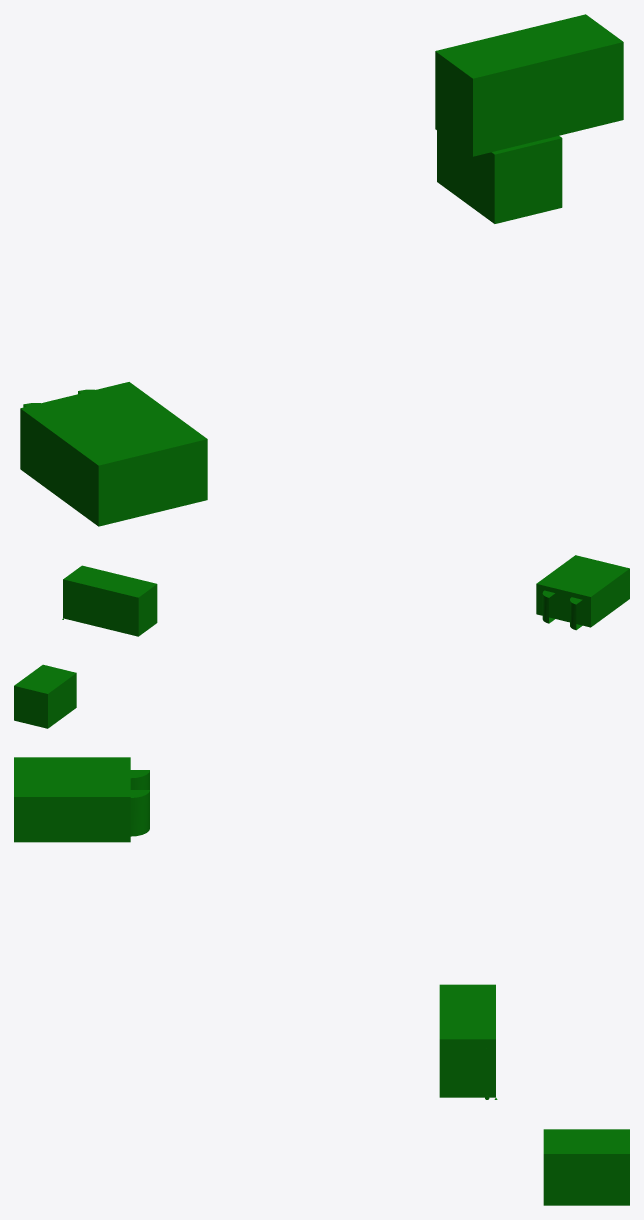
The model's file is Image-1710907724670-2280942044352_TEMP-CONTAINER-PLACEMENT.fbx.
The picture shows the model from 3 angles, top to bottom: view 1: azimuth 30°, elevation 25°; view 2: azimuth 150°, elevation 25°; view 3: azimuth 270°, elevation 25°; orthographic projection. The views are drawn at different scales.
Parts seen in each view (by area): view 1: BOX 1 of SUBEQUIPMENT /SYKESTUE, BOX 1 of SUBEQUIPMENT /LØFTEUTSTYRSKONTEINER, BOX 1 of SUBEQUIPMENT /KJØL_FRYS, BOX 1 of SUBEQUIPMENT /LAGERKONTEINER; view 2: BOX 1 of SUBEQUIPMENT /SYKESTUE, BOX 1 of SUBEQUIPMENT /KJØL_FRYS, BOX 1 of SUBEQUIPMENT /LØFTEUTSTYRSKONTEINER, BOX 1 of SUBEQUIPMENT /LAGERKONTEINER, RTORUS 1 of SUBEQUIPMENT /LAGERKONTEINER, RTORUS 1 of SUBEQUIPMENT /LØFTEUTSTYRSKONTEINER; view 3: BOX 1 of SUBEQUIPMENT /LAGERKONTEINER, BOX 1 of SUBEQUIPMENT /KJØL_FRYS, BOX 1 of SUBEQUIPMENT /SYKESTUE, BOX 1 of SUBEQUIPMENT /LØFTEUTSTYRSKONTEINER, RTORUS 1 of SUBEQUIPMENT /LAGERKONTEINER.
Part boxes in pixels (<box>): BOX 1 of SUBEQUIPMENT /SYKESTUE: <box>435,14,623,156</box>; BOX 1 of SUBEQUIPMENT /LØFTEUTSTYRSKONTEINER: <box>20,395,152,526</box>; BOX 1 of SUBEQUIPMENT /KJØL_FRYS: <box>437,130,562,223</box>; BOX 1 of SUBEQUIPMENT /LAGERKONTEINER: <box>75,382,207,513</box>; BOX 1 of SUBEQUIPMENT /SYKESTUE: <box>63,565,157,636</box>; BOX 1 of SUBEQUIPMENT /KJØL_FRYS: <box>14,664,76,728</box>; BOX 1 of SUBEQUIPMENT /LØFTEUTSTYRSKONTEINER: <box>563,562,629,627</box>; BOX 1 of SUBEQUIPMENT /LAGERKONTEINER: <box>536,555,602,620</box>; RTORUS 1 of SUBEQUIPMENT /LAGERKONTEINER: <box>542,590,554,623</box>; RTORUS 1 of SUBEQUIPMENT /LØFTEUTSTYRSKONTEINER: <box>570,597,582,630</box>; BOX 1 of SUBEQUIPMENT /LAGERKONTEINER: <box>14,777,130,842</box>; BOX 1 of SUBEQUIPMENT /KJØL_FRYS: <box>543,1129,629,1205</box>; BOX 1 of SUBEQUIPMENT /SYKESTUE: <box>439,984,495,1097</box>; BOX 1 of SUBEQUIPMENT /LØFTEUTSTYRSKONTEINER: <box>14,757,130,776</box>; RTORUS 1 of SUBEQUIPMENT /LAGERKONTEINER: <box>130,790,149,836</box>.
Bounding box in the file's own units: 36.52 × 31.9 × 9.32.
